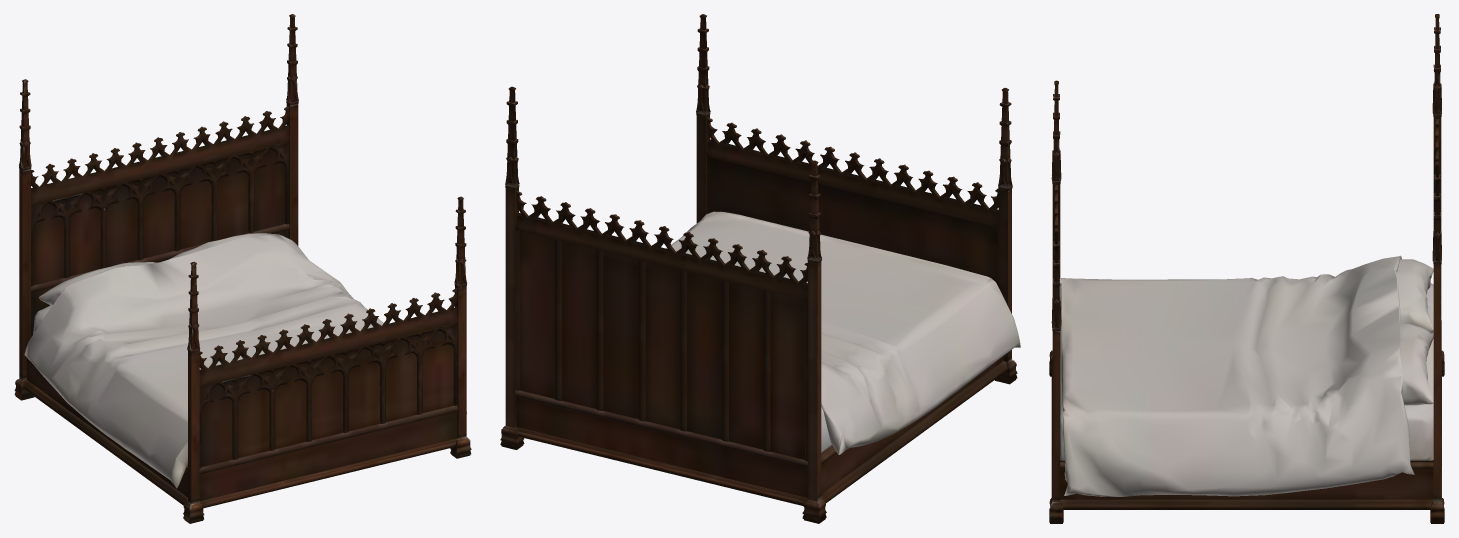
File: ph-gothicbed-01.glb
The picture shows the model from 3 angles, left to right: view 1: azimuth 30°, elevation 25°; view 2: azimuth 150°, elevation 25°; view 3: azimuth 270°, elevation 25°; orthographic projection. The views are drawn at different scales.
Parts seen in each view (by area): view 1: GothicBed_01; view 2: GothicBed_01; view 3: GothicBed_01.
Boxes of the visible parts, left/top/right/bottom form: GothicBed_01: left=14, top=14, right=471, bottom=523; GothicBed_01: left=500, top=14, right=1020, bottom=523; GothicBed_01: left=1049, top=14, right=1444, bottom=523.
Bounding box in the file's own units: 0.9994 × 1 × 1.
Materials: 1 (1 with a texture image).
